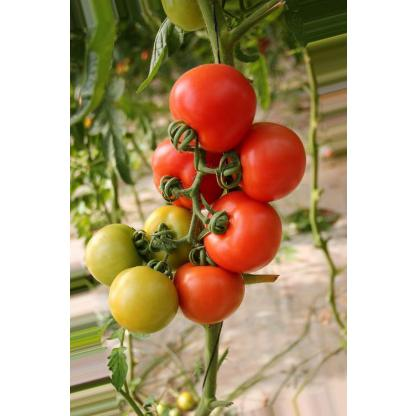tomato: (159, 52, 261, 156), (216, 108, 312, 208), (188, 186, 290, 278), (144, 126, 246, 210), (168, 246, 252, 332), (102, 261, 184, 339), (79, 216, 164, 289), (130, 198, 209, 270)
